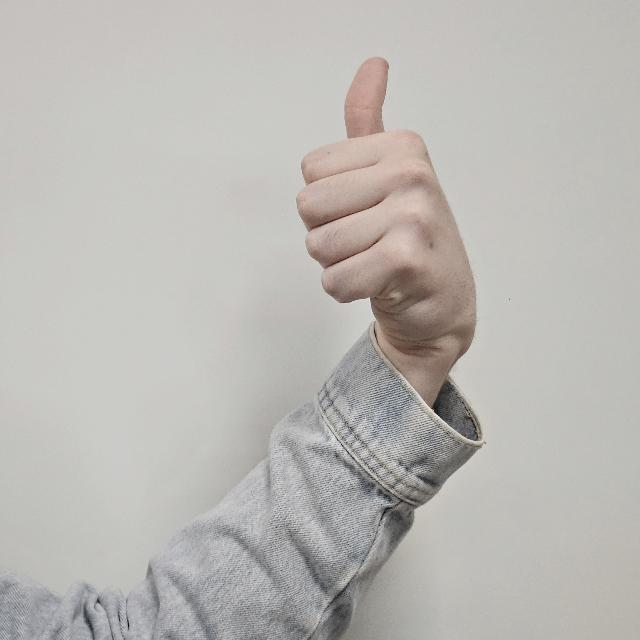Start: (290, 51, 436, 310)
